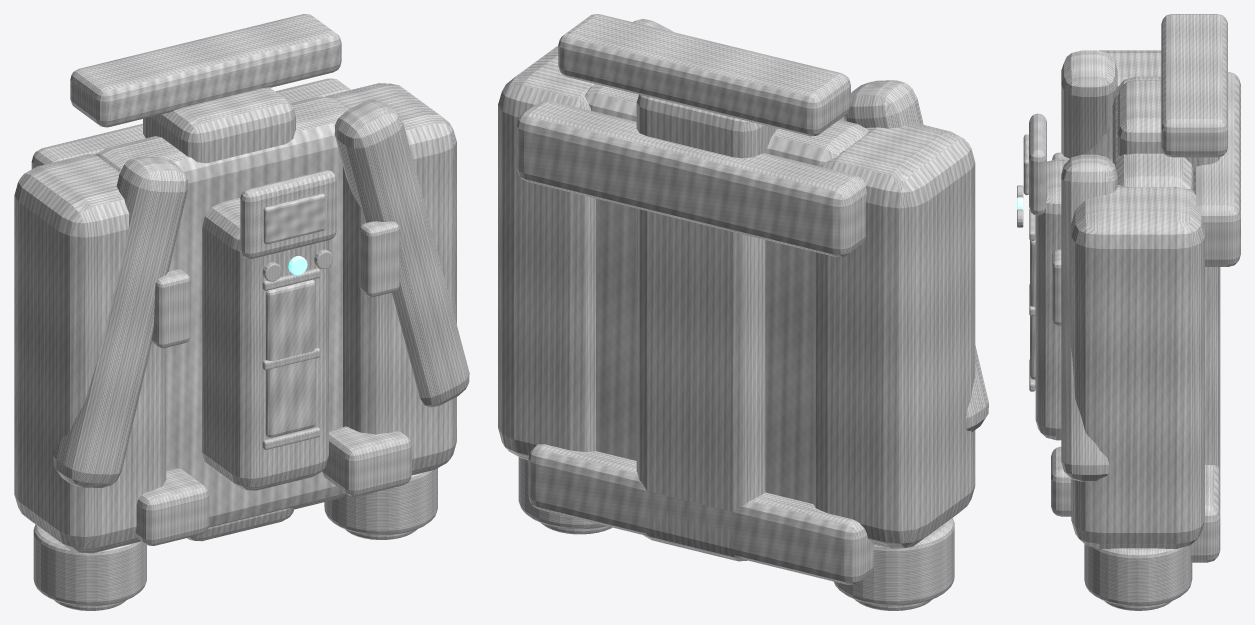
Rendered from jetpack_variant_d.glb.
The picture shows the model from 3 angles, left to right: view 1: azimuth 30°, elevation 25°; view 2: azimuth 150°, elevation 25°; view 3: azimuth 270°, elevation 25°; orthographic projection. The views are drawn at different scales.
Parts seen in each view (by area): view 1: Removable side pod, Backplate, Fuel cell shell.003, Removable side pod.001, Shoulder strap.006, Shoulder strap.007, Top docking rail, Central spine, Fuel level window.003, Lower thrust nozzle, Lower harness clasp.007, Lower thrust nozzle.001 (+7 smaller); view 2: Removable side pod, Central spine, Removable side pod.001, Upper harness bridge.003, Backplate, Waist stabilizer.003, Top docking rail, Lower thrust nozzle, Shoulder strap.006, Lower thrust nozzle.001; view 3: Removable side pod.001, Top docking rail, Shoulder strap.007, Central spine, Fuel cell shell.003, Lower thrust nozzle.001, Upper harness bridge.003, Shoulder strap.006, Backplate, Waist stabilizer.003, Removable side pod, Status panel bezel.003 (+4 smaller).
Boxes of the visible parts, x1,y1,x2,y2 form: Removable side pod: (14, 154, 166, 553); Backplate: (95, 96, 348, 527); Fuel cell shell.003: (202, 198, 328, 490); Removable side pod.001: (326, 83, 456, 475); Shoulder strap.006: (53, 156, 187, 487); Shoulder strap.007: (334, 99, 469, 407); Top docking rail: (70, 14, 341, 127); Central spine: (143, 87, 295, 541); Fuel level window.003: (265, 279, 315, 437); Lower thrust nozzle: (33, 524, 146, 605); Lower harness clasp.007: (322, 426, 411, 496); Lower thrust nozzle.001: (324, 468, 437, 535); Removable side pod: (813, 123, 975, 548); Central spine: (636, 94, 777, 561); Removable side pod.001: (498, 45, 595, 459); Upper harness bridge.003: (516, 100, 866, 257); Backplate: (585, 84, 868, 503); Waist stabilizer.003: (528, 444, 874, 584); Top docking rail: (558, 14, 850, 136); Lower thrust nozzle: (834, 518, 954, 605); Shoulder strap.006: (844, 80, 988, 431); Lower thrust nozzle.001: (518, 457, 606, 529); Removable side pod.001: (1071, 185, 1204, 548); Top docking rail: (1161, 14, 1227, 157); Shoulder strap.007: (1061, 154, 1117, 481); Central spine: (1117, 79, 1220, 468); Fuel cell shell.003: (1035, 159, 1112, 440); Lower thrust nozzle.001: (1084, 544, 1192, 606); Upper harness bridge.003: (1193, 72, 1240, 266); Shoulder strap.006: (1061, 50, 1117, 158); Backplate: (1112, 76, 1193, 190); Waist stabilizer.003: (1191, 465, 1220, 562); Removable side pod: (1085, 50, 1161, 159); Status panel bezel.003: (1029, 113, 1046, 215).
Size of what is drawn, in the model's own units: 0.8574 by 0.9925 by 0.436.
Materials: 7 (7 with a texture image).
